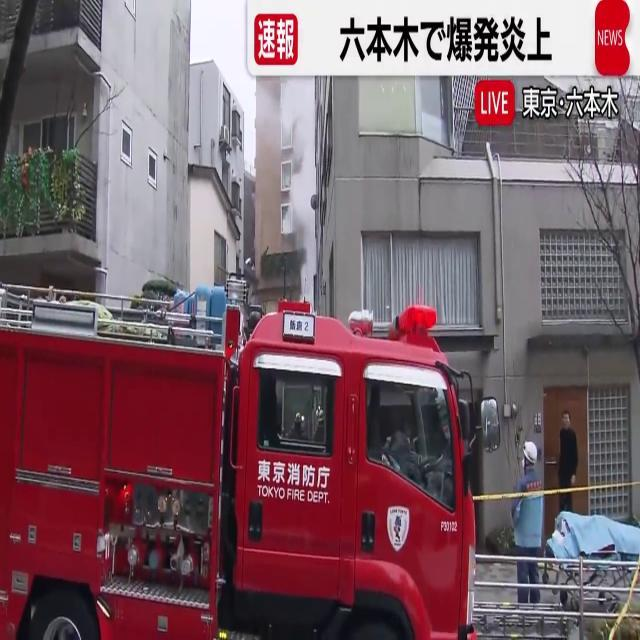Smoke: (286, 78, 318, 288)
